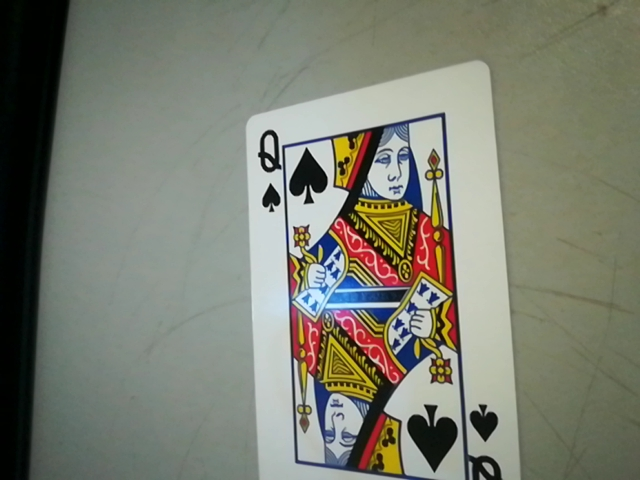ht q: (250, 129, 281, 211)
